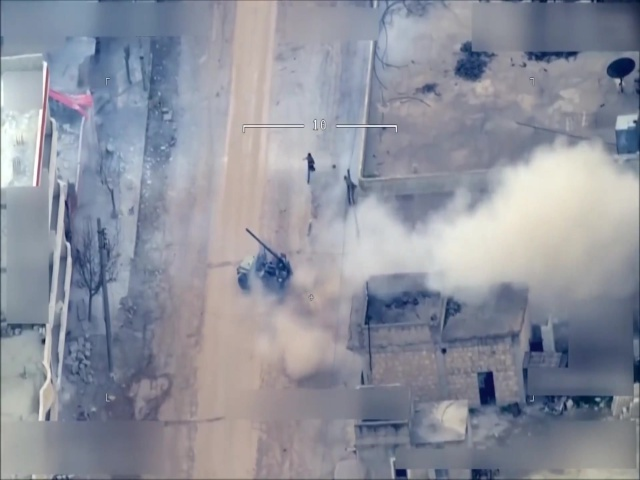person: (303, 150, 318, 185)
vehicle: (235, 245, 294, 299)
